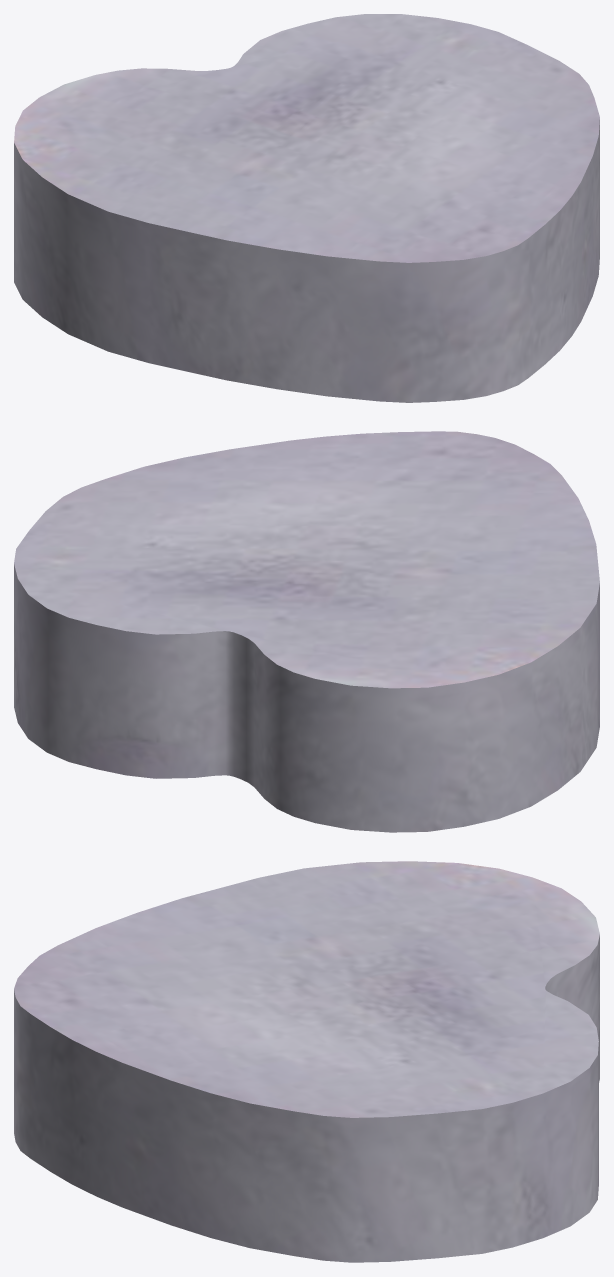
The model's file is candy heart 1.glb.
3 views of the same model, one above another, from view 1: azimuth 30°, elevation 25°; view 2: azimuth 150°, elevation 25°; view 3: azimuth 270°, elevation 25° (orthographic). The views are drawn at different scales.
Visible parts, largest first — view 1: CandyHeart; view 2: CandyHeart; view 3: CandyHeart.
Part boxes in pixels (bbox=[...]): CandyHeart: bbox=[14, 14, 599, 402]; CandyHeart: bbox=[14, 431, 599, 832]; CandyHeart: bbox=[14, 861, 599, 1262].
Size of the model in its own units: 2.28 by 0.6 by 2.2.
1 material, 1 textured.
